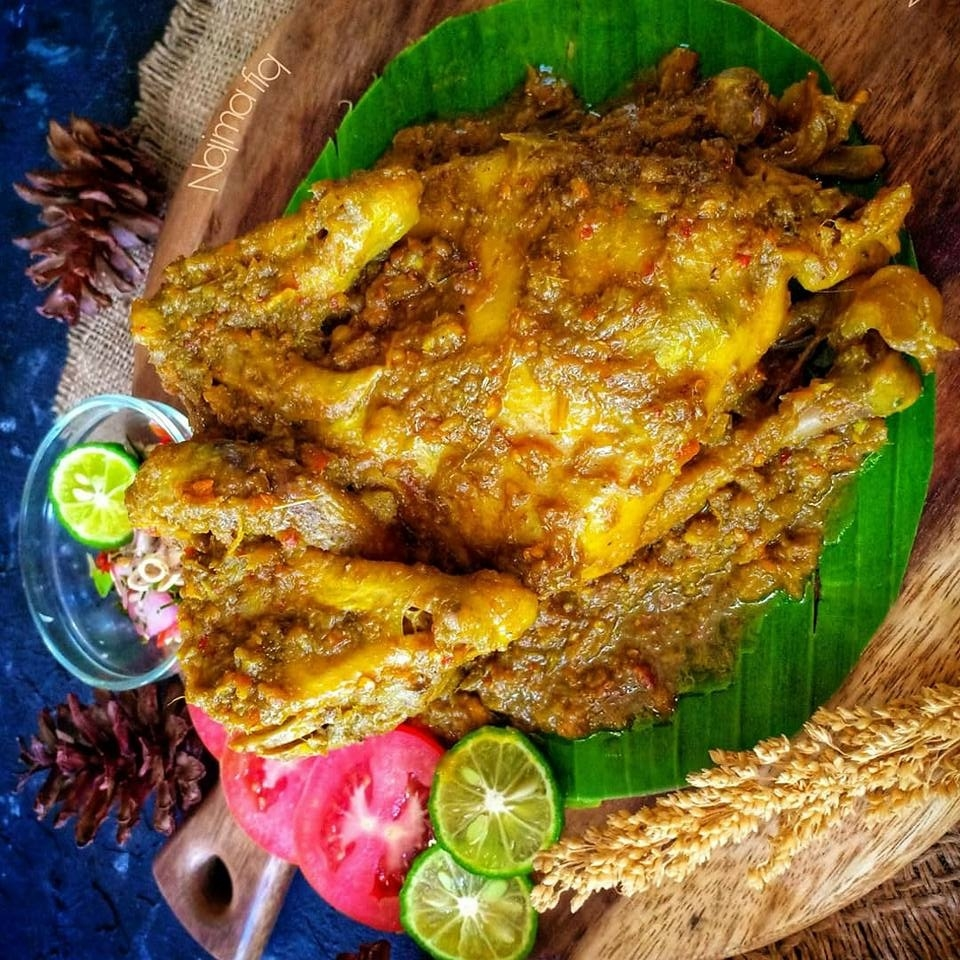ayam_betutu: (139, 51, 960, 756)
